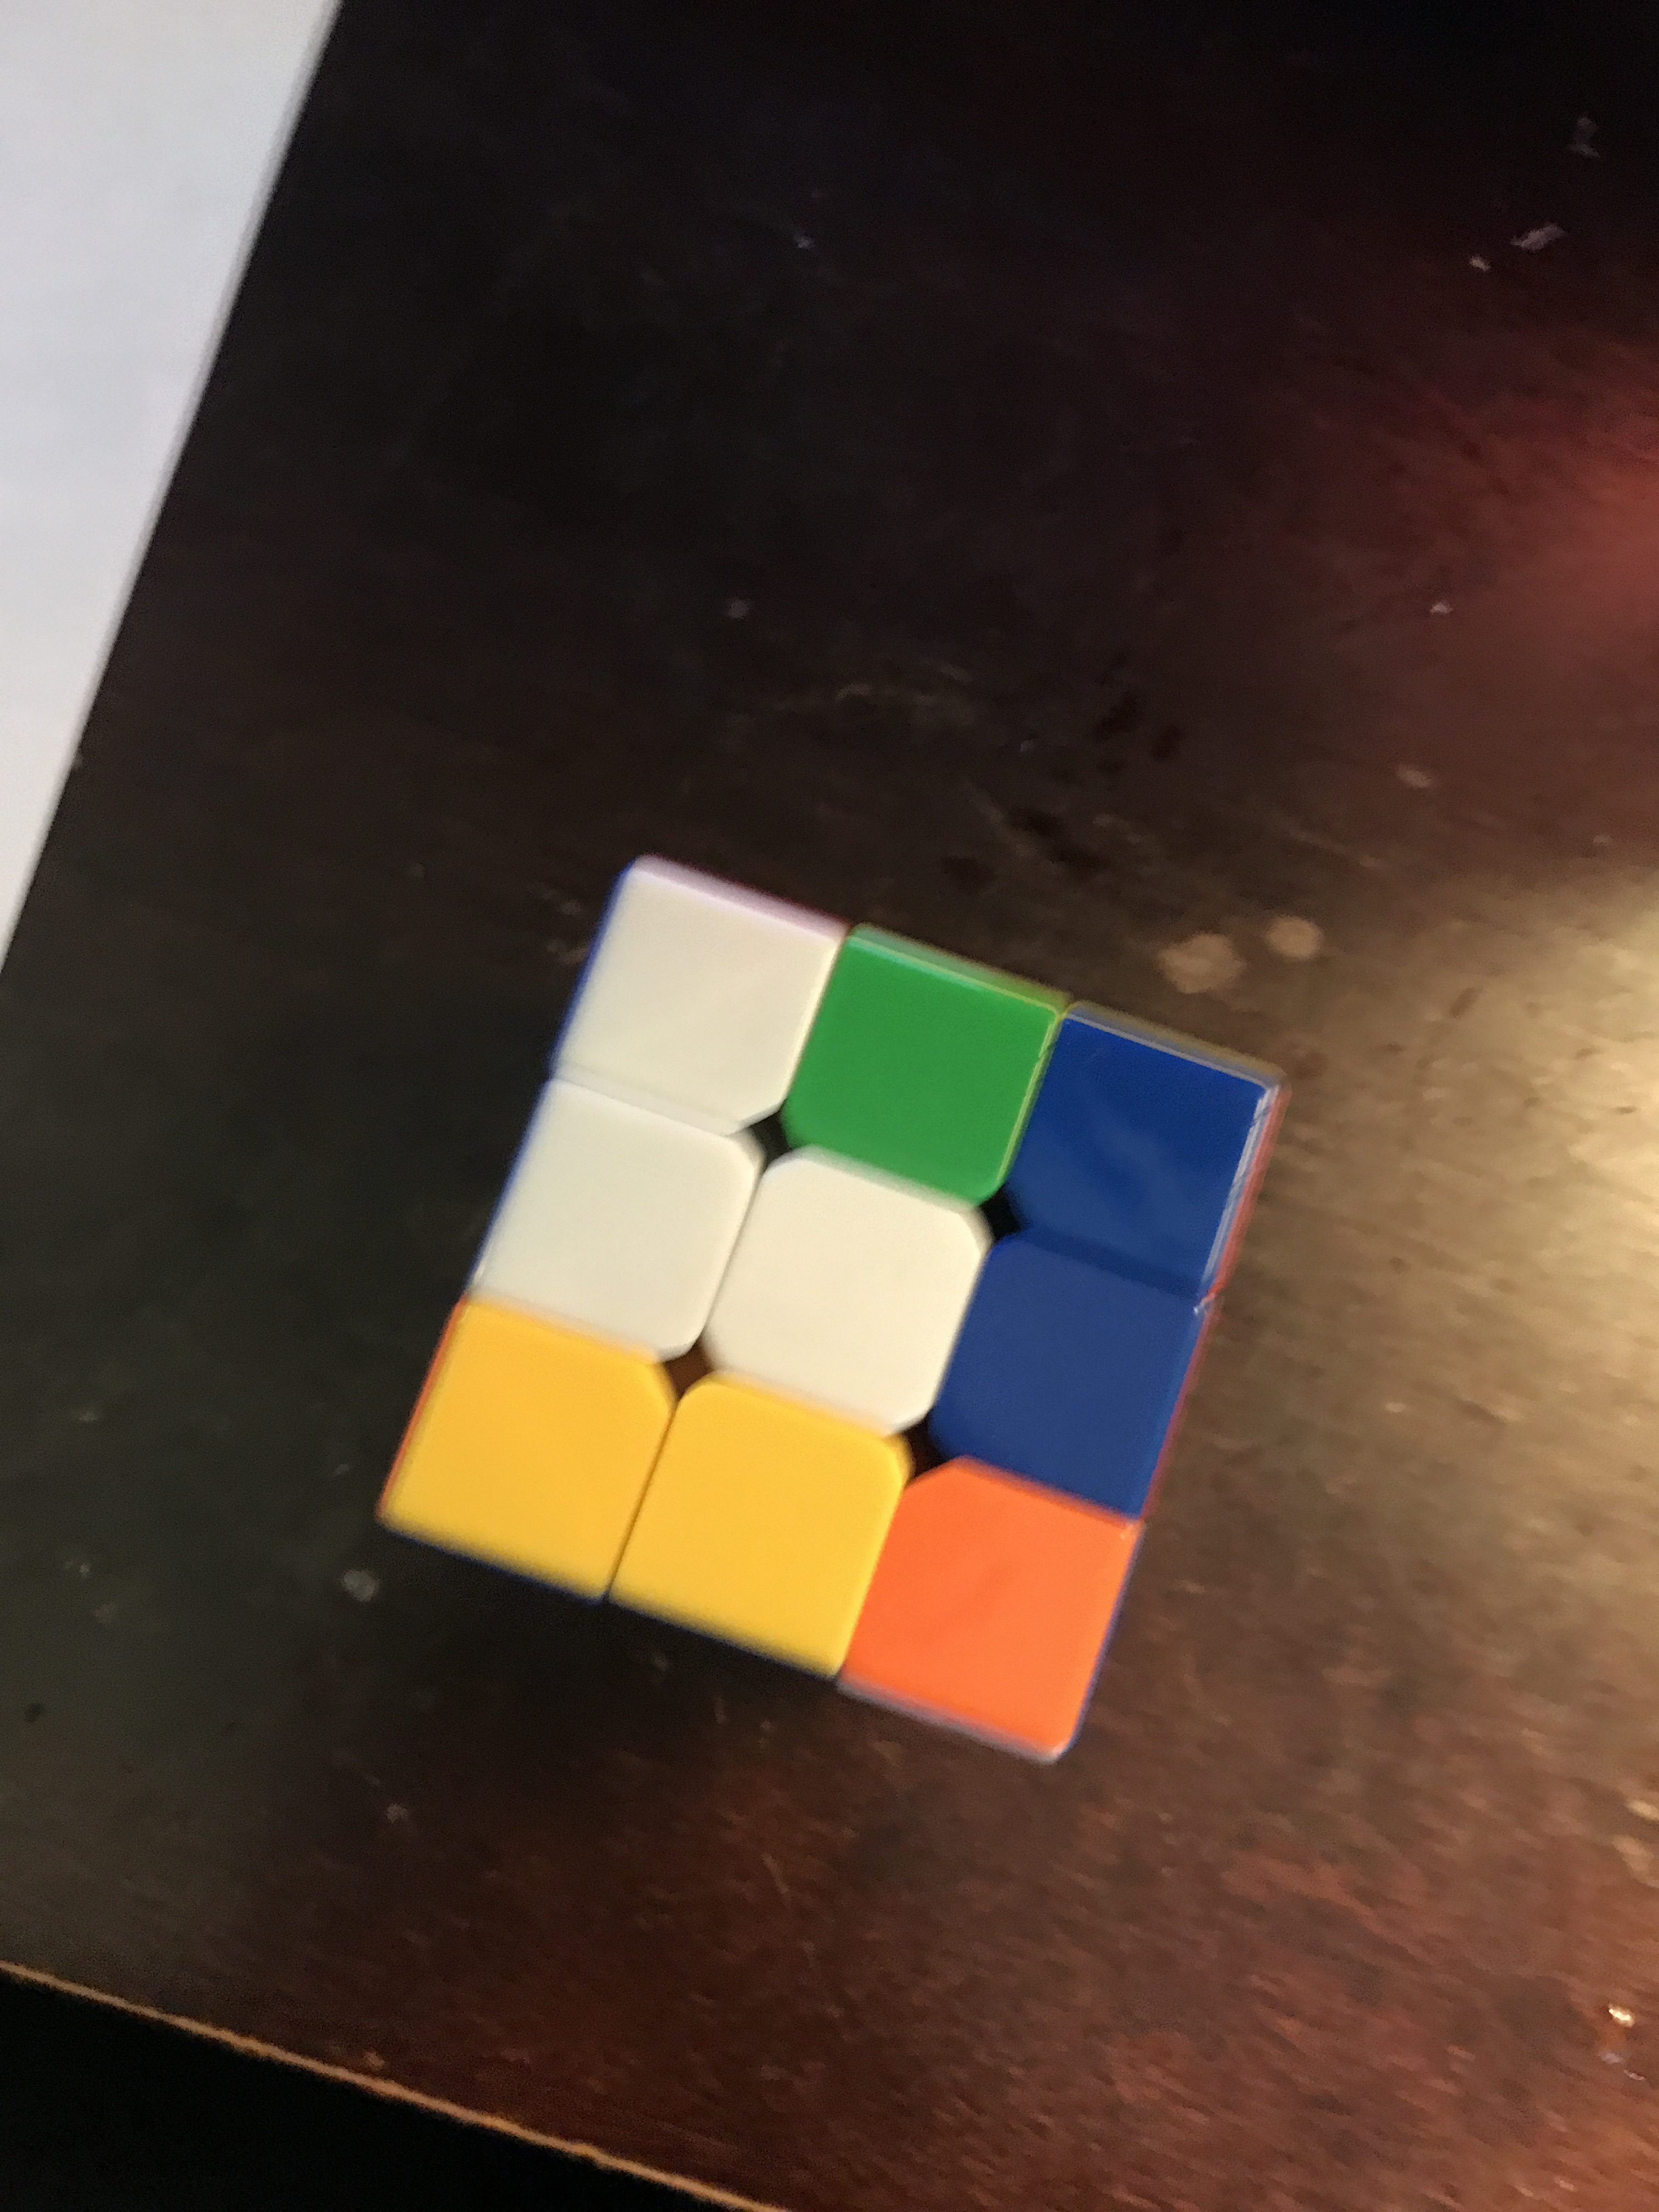rubiks: (369, 848, 1291, 1777)
